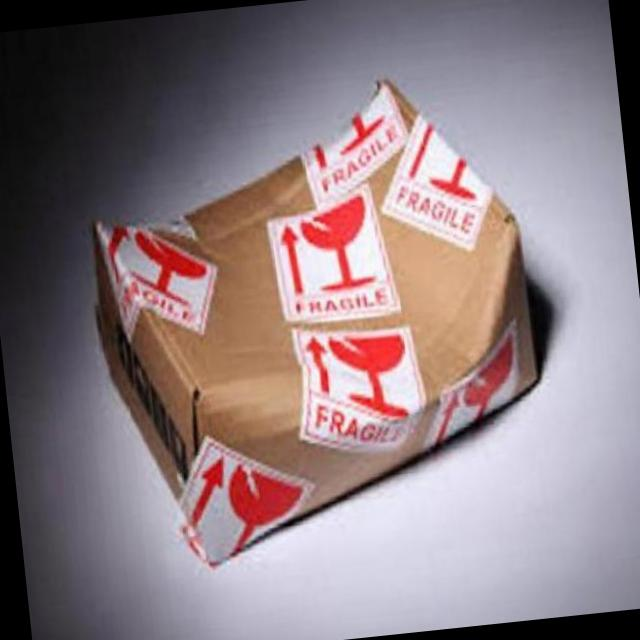box: (63, 62, 572, 586)
